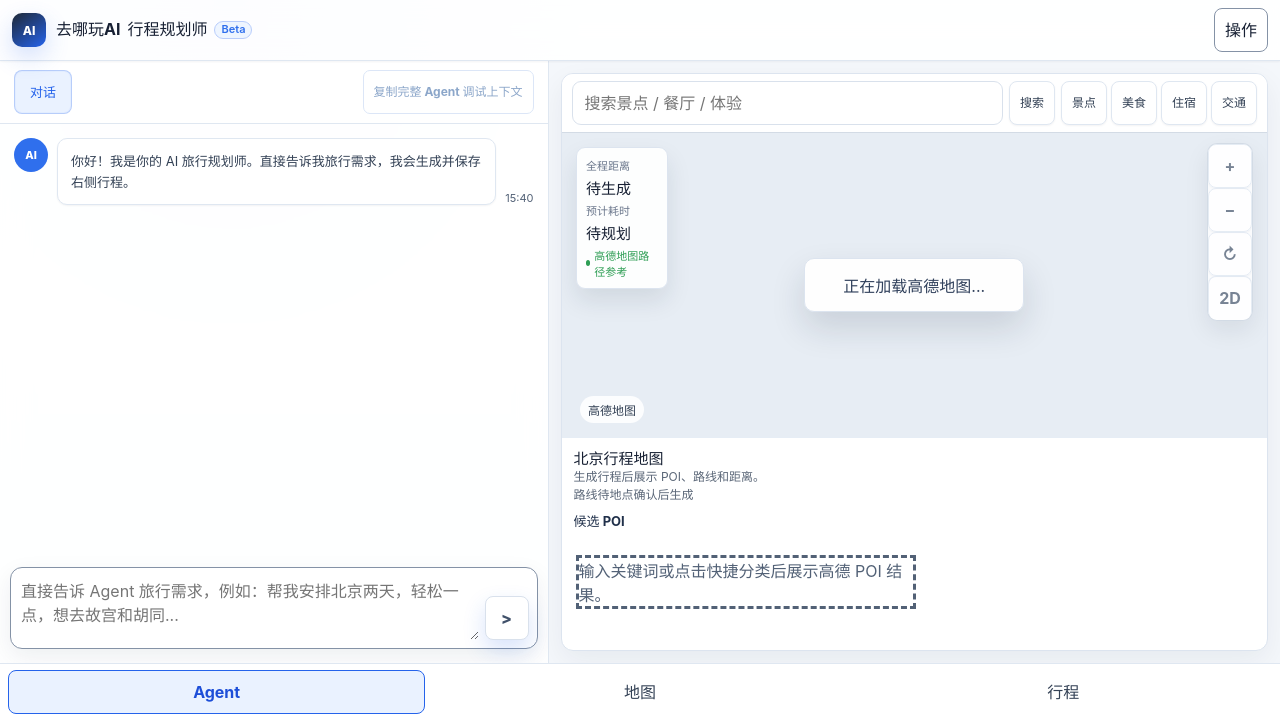
Test: a stopped request cannot publish a late comparison projection into the current state
Type "启动一个随后停止的规划" into the text box named "Agent 对话文本" at (249,608), box [19, 576, 479, 640]
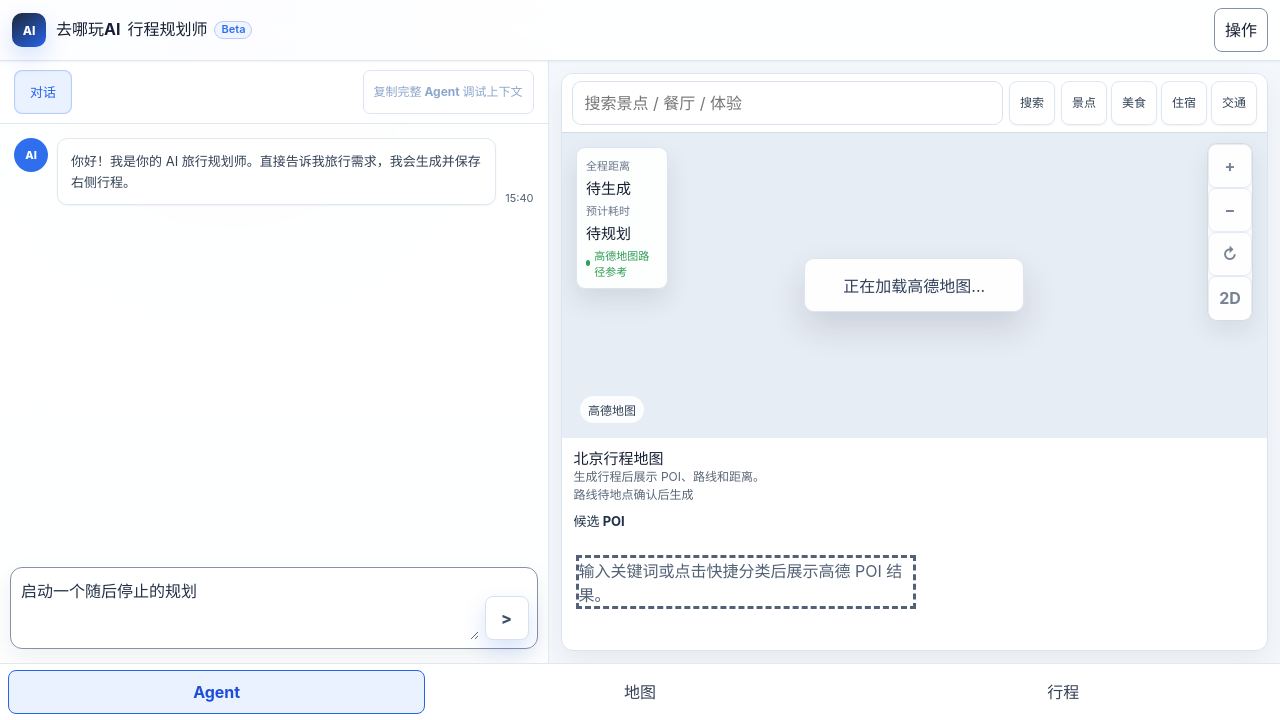
Press Enter in the text box named "Agent 对话文本", box [19, 576, 479, 640]
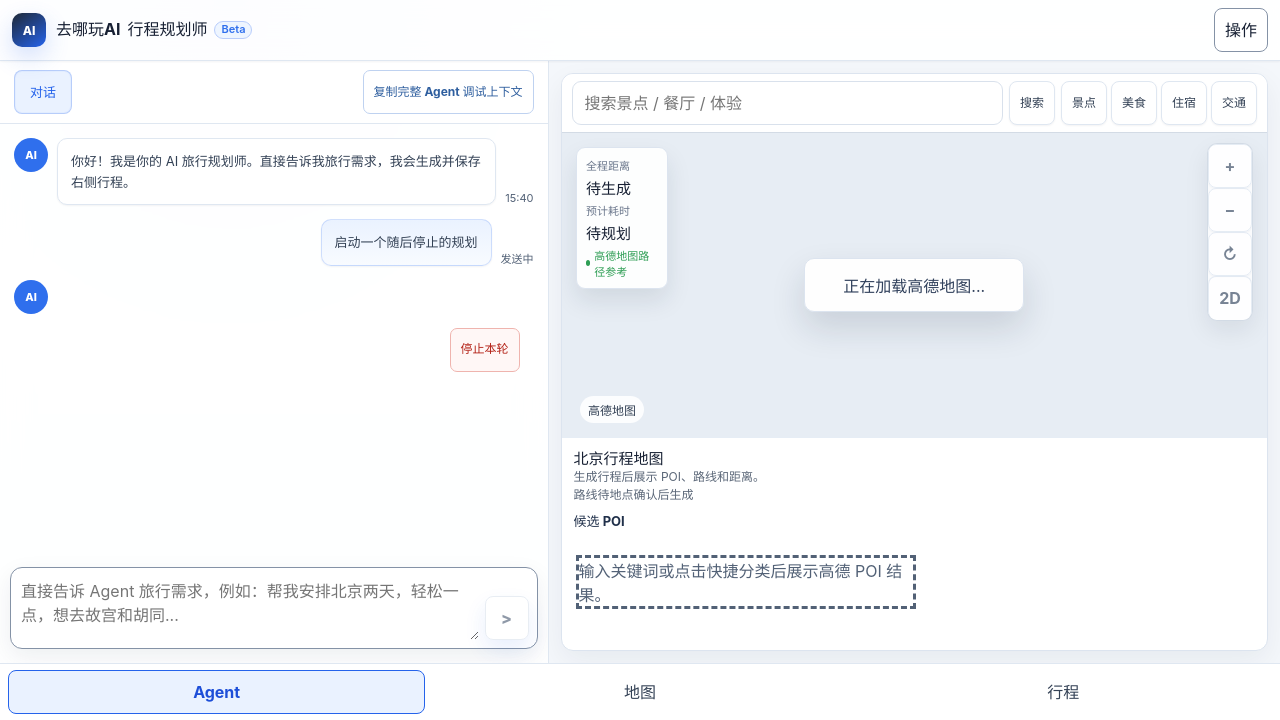
Click the button "停止本轮" at (484,350), box [450, 328, 520, 372]
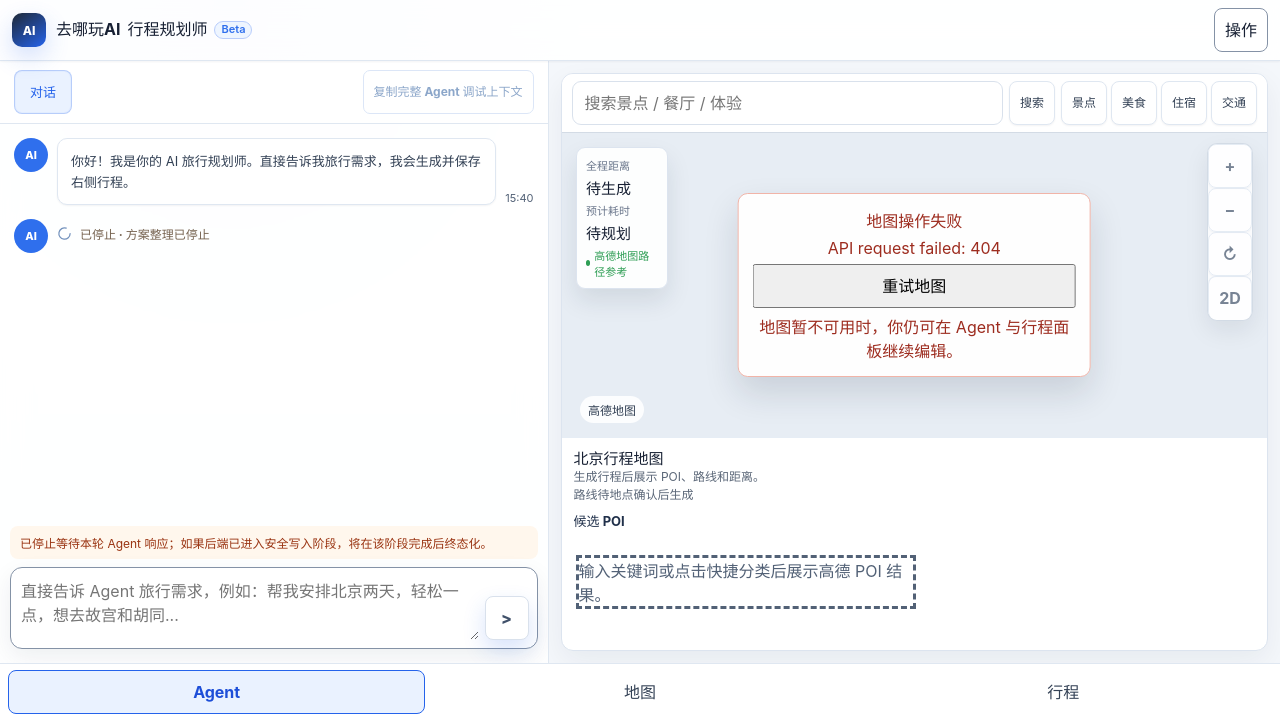
Expected: the text "已停止 · 方案整理已停止" is shown, [80, 225, 210, 242]
Expected: the element named "Agent 规划进度" is shown, [14, 219, 210, 253]
